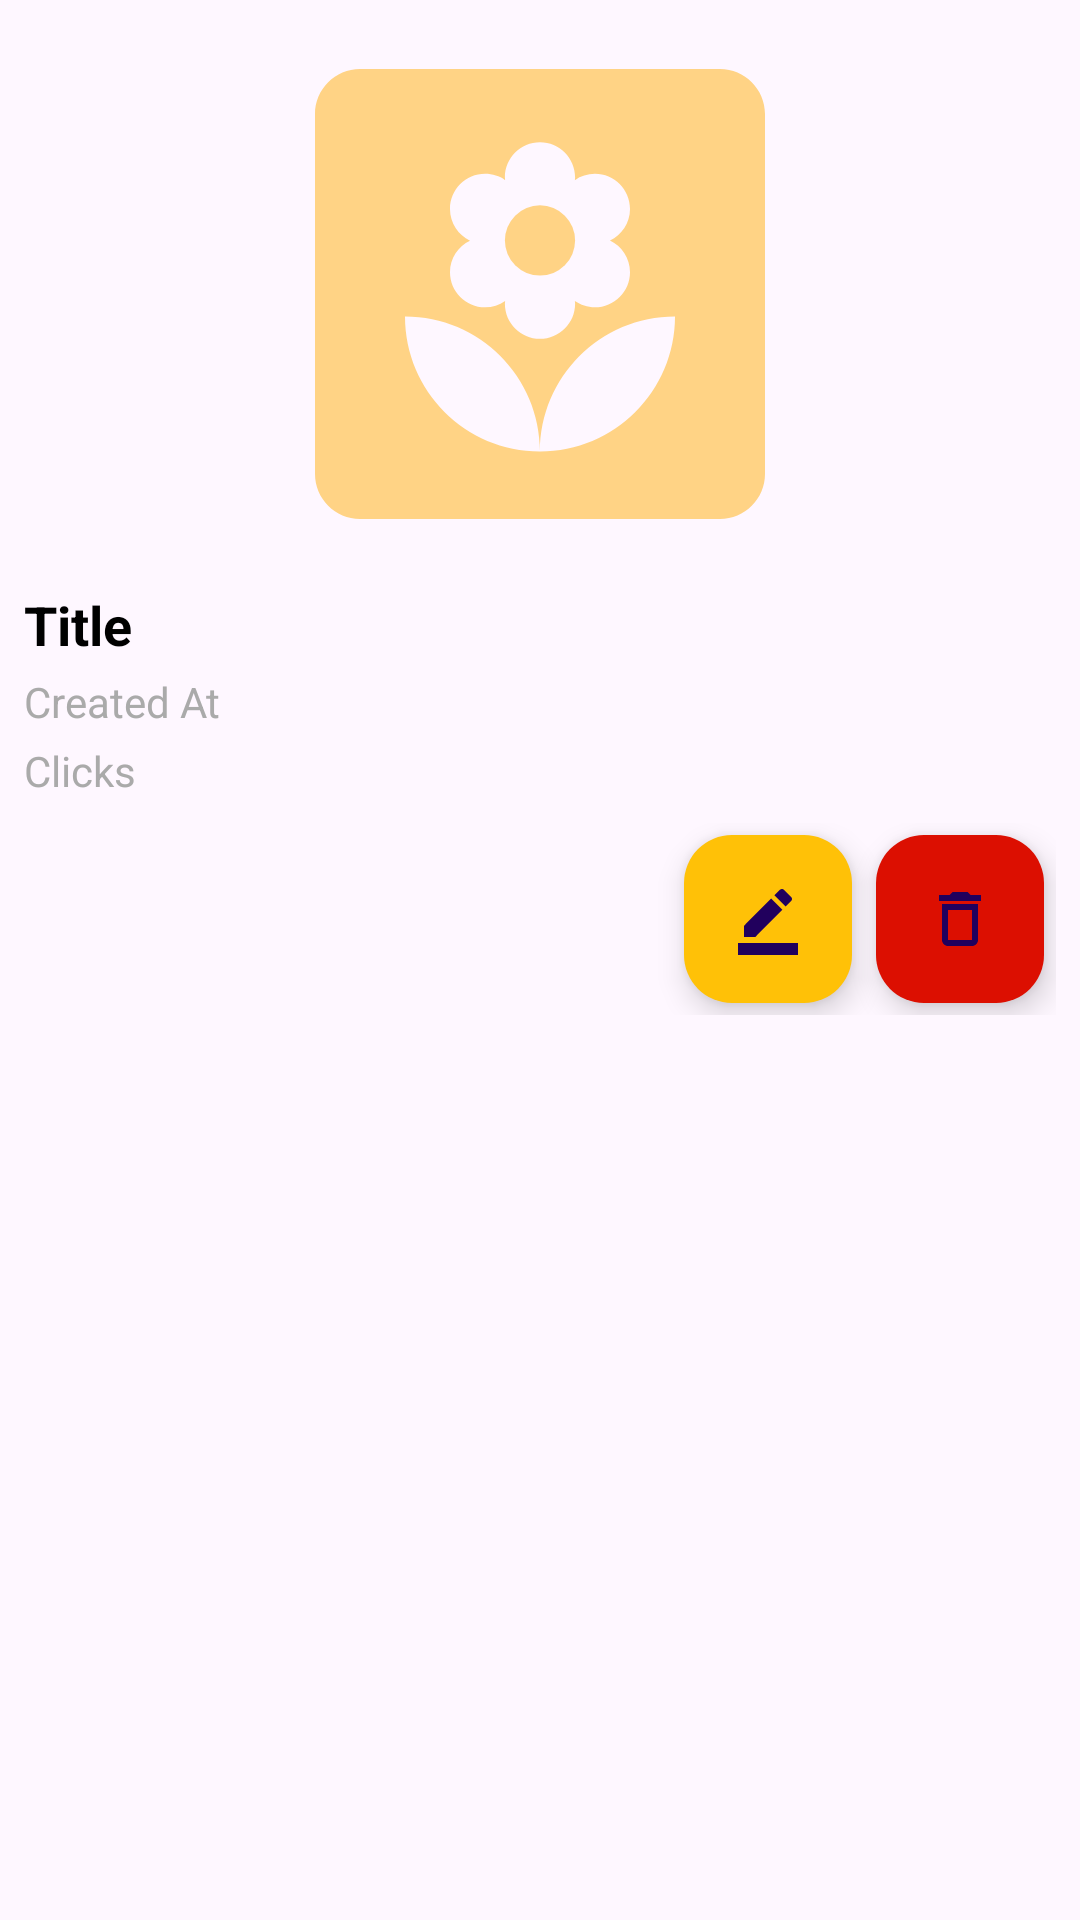

Icon bounding boxes for this 1080px x 1920px phone screenshot, format (x1, y1, x2, y2):
delete: (876, 835, 1044, 1003)
